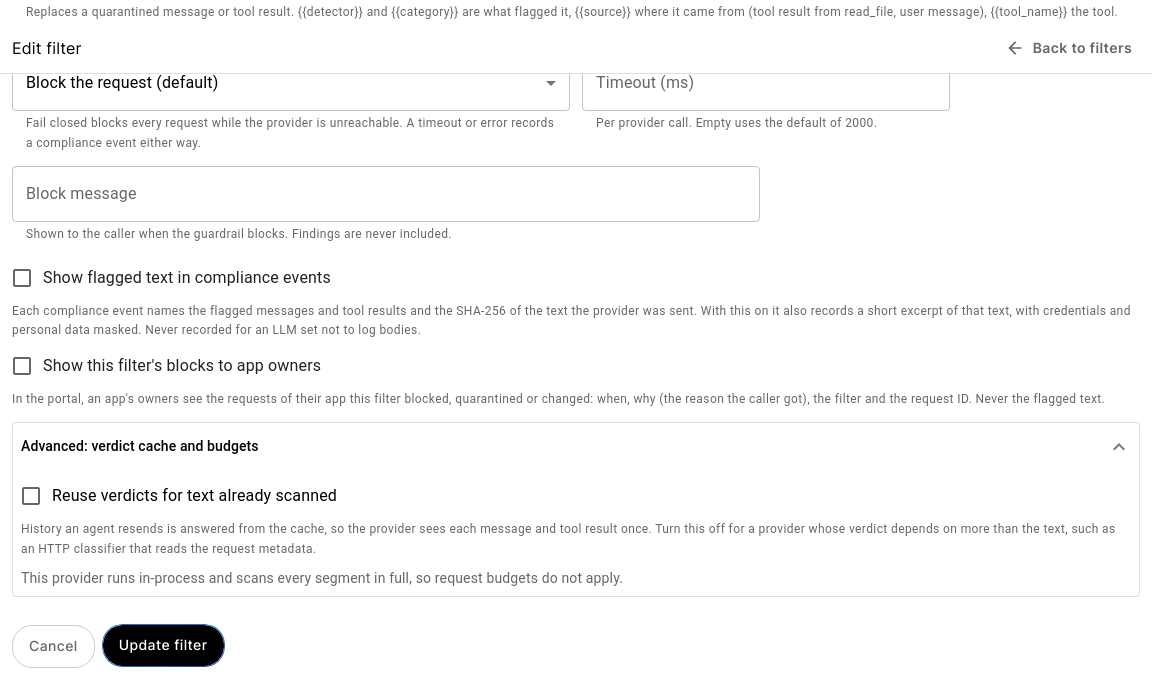
it: FilterForm: tool-result guardrail settings (4uc.8) › does not save a budget out of range
(page scrolled)
What coordinates should you click on to do the following:
click the button "Update filter"
I would click on:
 (163, 645)
Its box is [103, 625, 224, 666].
(page scrolled)
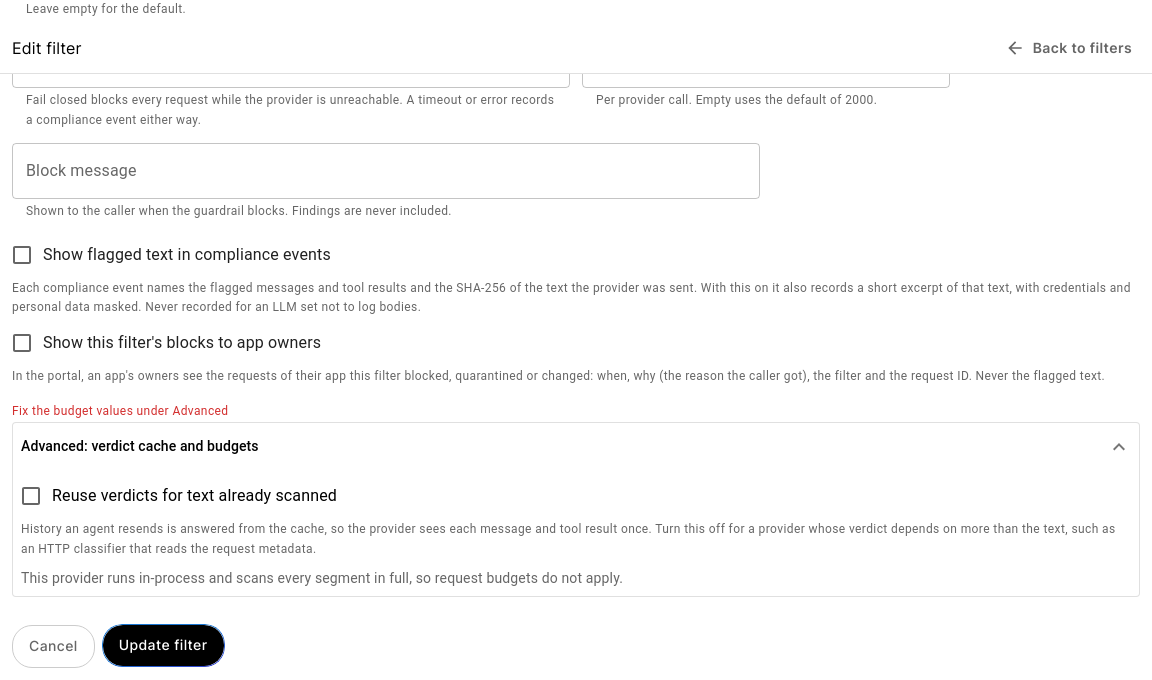
Check: the text "Fix the budget values under Advanced" is shown, box [12, 404, 228, 418]
